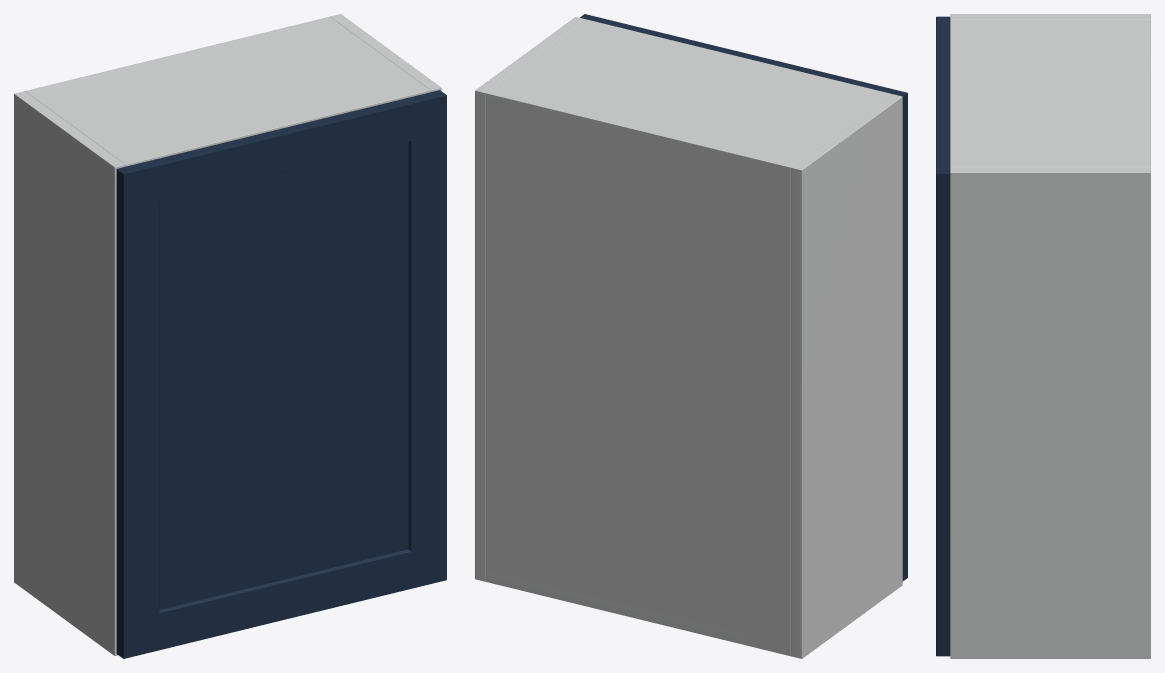
File: oppein-ply-bss-w2130.glb
3 renders of one model, left to right at view 1: azimuth 30°, elevation 25°; view 2: azimuth 150°, elevation 25°; view 3: azimuth 270°, elevation 25°, orthographic.
Parts seen in each view (by area): view 1: Door, Cabinet side, Cabinet top, Cabinet back, Cabinet side.001; view 2: Cabinet back, Cabinet side, Cabinet top, Cabinet side.001, Door, Cabinet bottom; view 3: Cabinet side.001, Cabinet top, Door, Cabinet back, Cabinet side.
Part boxes in pixels (x1,y1,x2,y2): Door: (116, 90, 446, 658); Cabinet side: (14, 91, 125, 655); Cabinet top: (25, 19, 430, 166); Cabinet back: (26, 16, 333, 93); Cabinet side.001: (330, 14, 441, 91); Cabinet back: (486, 90, 794, 655); Cabinet side: (791, 94, 902, 658); Cabinet top: (486, 19, 890, 177); Cabinet side.001: (475, 17, 586, 581); Door: (580, 14, 907, 581); Cabinet bottom: (486, 571, 790, 656); Cabinet side.001: (950, 167, 1150, 658); Cabinet top: (950, 19, 1150, 167); Door: (936, 16, 950, 656); Cabinet back: (1142, 19, 1150, 167); Cabinet side: (950, 14, 1150, 19).
Bounding box in the file's own units: 0.5334 × 0.762 × 0.3048.
